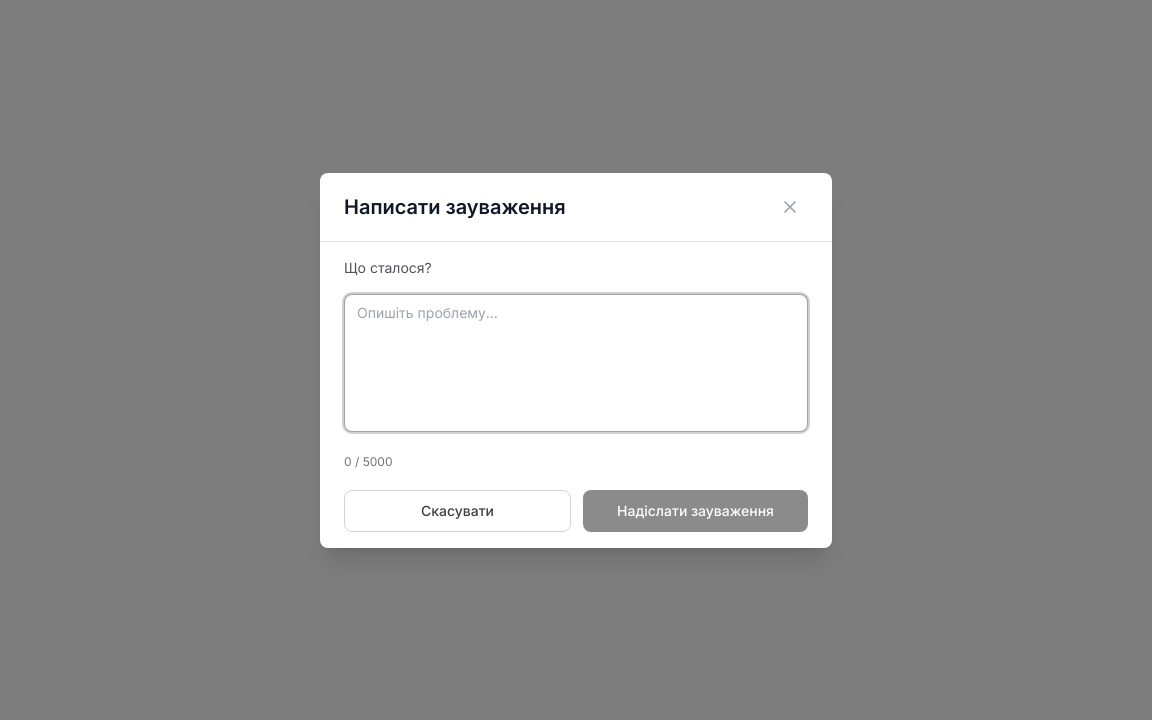
Test: SupportContactForm › successful submission › shows success state with thank-you message after submit
Type "Це тестове зауваження" into the text box with placeholder "Опишіть проблему…".
click(576, 362); type("Це тестове зауваження")  # box [344,294,808,432]
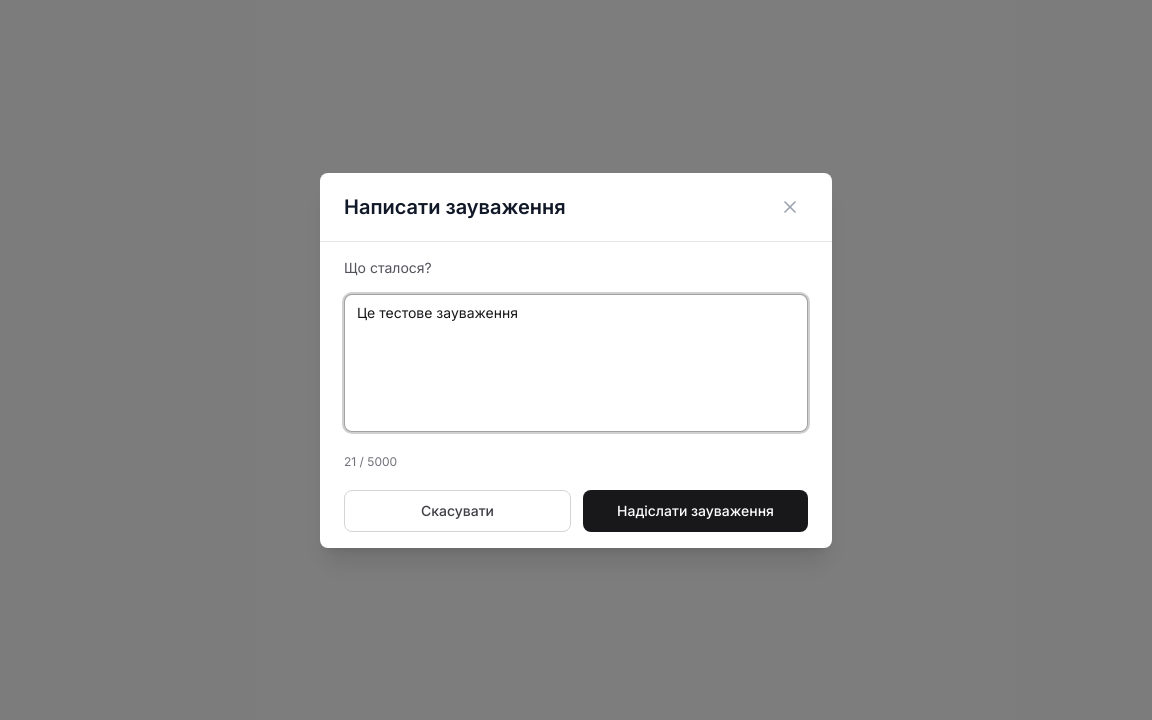
Click the button "Надіслати зауваження".
click(696, 510)  # box [583,490,808,532]
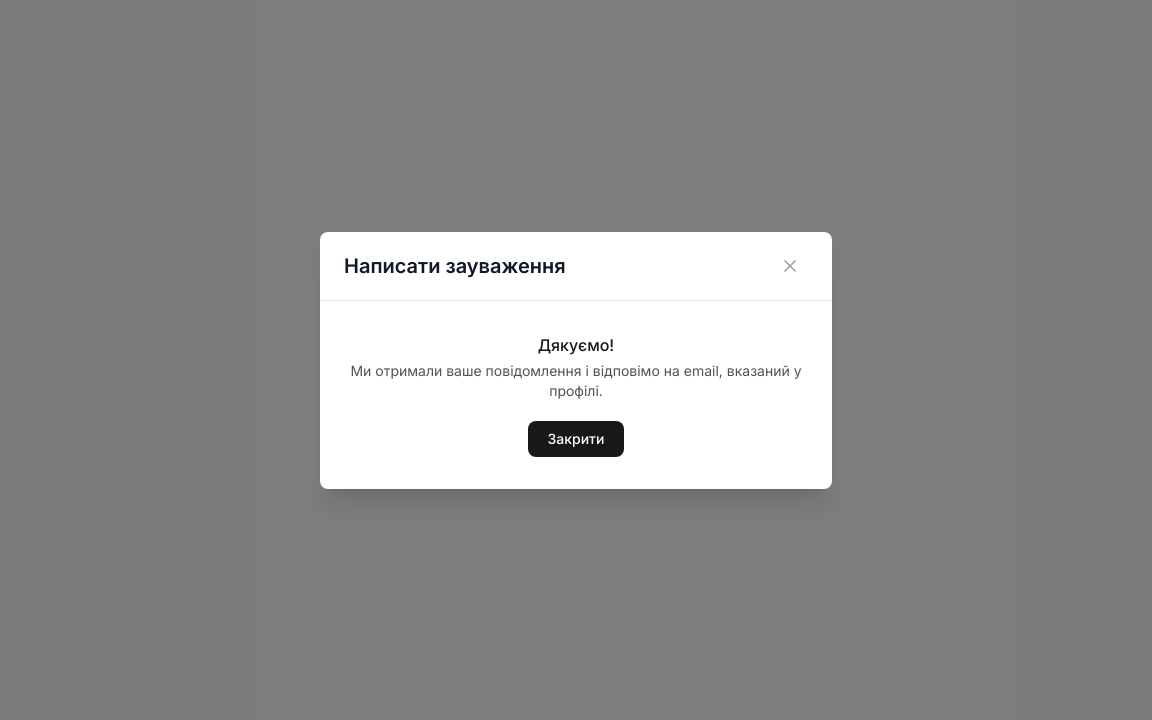
Check: the field with placeholder "Опишіть проблему…" is not shown
Check: the text "Дякуємо!" is shown, box [538,334,614,354]
Check: the text "Ми отримали ваше повідомлення" is shown, box [350,362,802,398]
